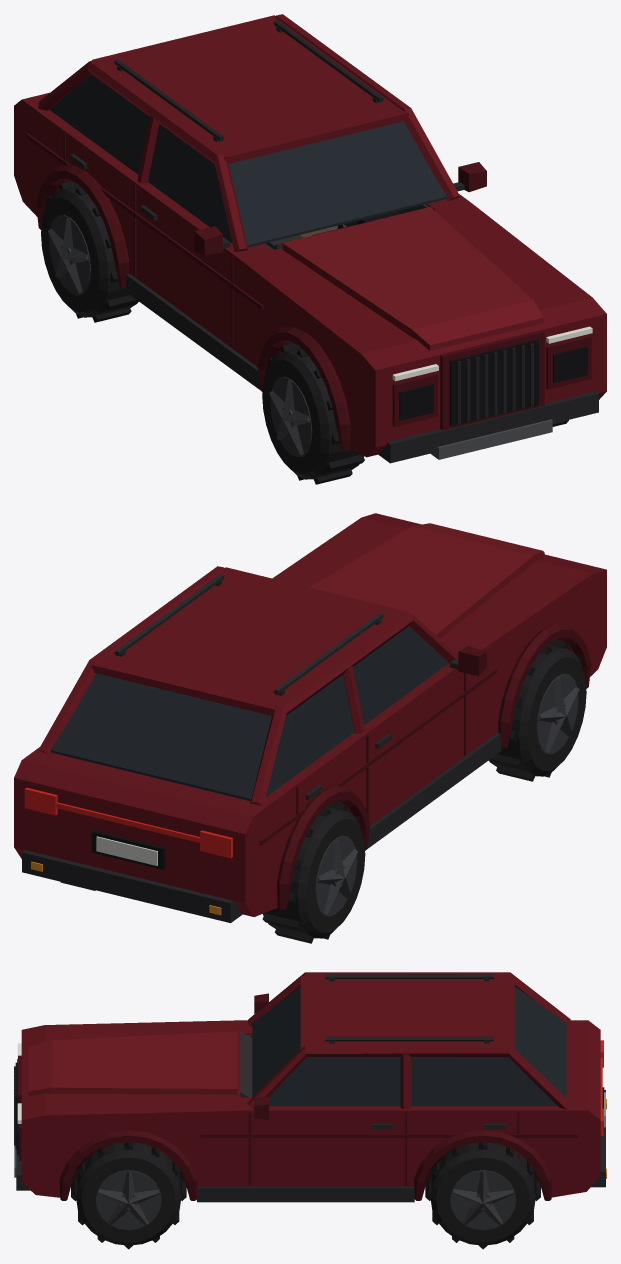
File: RedSuvClean.glb
The picture shows the model from 3 angles, top to bottom: view 1: azimuth 30°, elevation 25°; view 2: azimuth 150°, elevation 25°; view 3: azimuth 270°, elevation 25°; orthographic projection. The views are drawn at different scales.
Visible parts, largest first — view 1: Body, Glass, WheelFR, WheelRR; view 2: Body, Glass, WheelRR, WheelFR; view 3: Body, Glass, WheelFL, WheelRL.
Boxes of the visible parts, left/top/right/bottom form: Body: left=14, top=14, right=606, bottom=463; Glass: left=50, top=74, right=447, bottom=247; WheelFR: left=262, top=343, right=364, bottom=484; WheelRR: left=41, top=181, right=138, bottom=322; Body: left=14, top=513, right=606, bottom=923; Glass: left=50, top=626, right=448, bottom=801; WheelRR: left=262, top=802, right=365, bottom=943; WheelFR: left=488, top=640, right=586, bottom=781; Body: left=14, top=972, right=606, bottom=1202; Glass: left=252, top=986, right=566, bottom=1106; WheelFL: left=71, top=1142, right=186, bottom=1249; WheelRL: left=425, top=1142, right=540, bottom=1249.
Size of the model in its own units: 7.5 by 6.14 by 16.9.
1 material, 1 textured.
